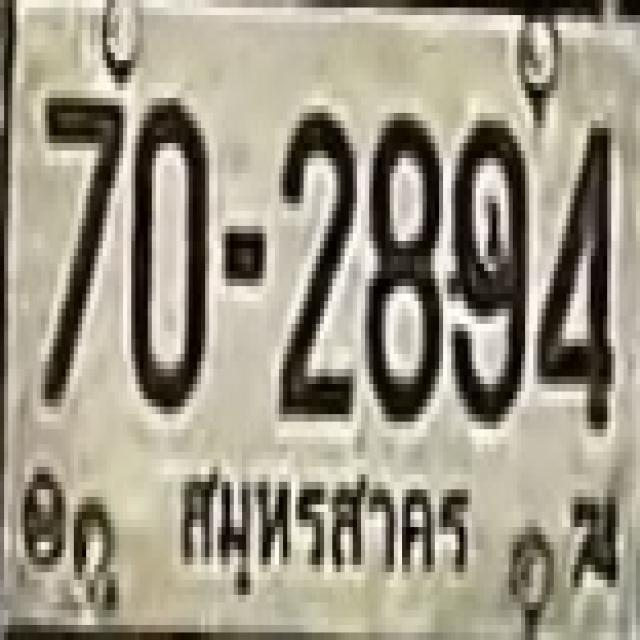0: (127, 90, 205, 407)
2: (277, 102, 355, 410)
4: (534, 113, 612, 422)
7: (41, 90, 119, 399)
8: (361, 106, 439, 414)
9: (447, 109, 525, 418)
SKN: (162, 442, 480, 592)
